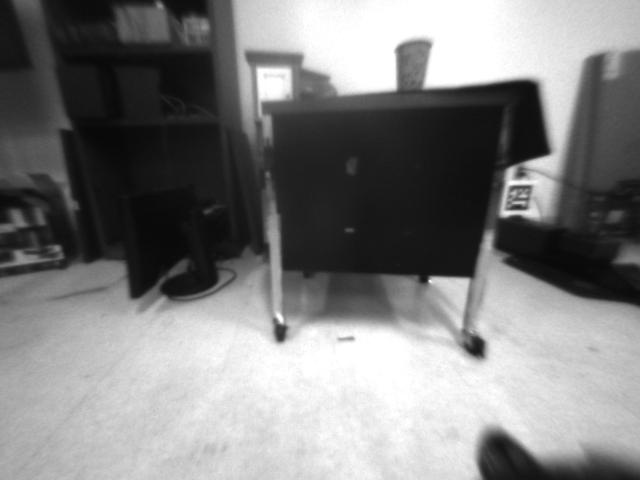coffee_cup: (390, 36, 433, 94)
